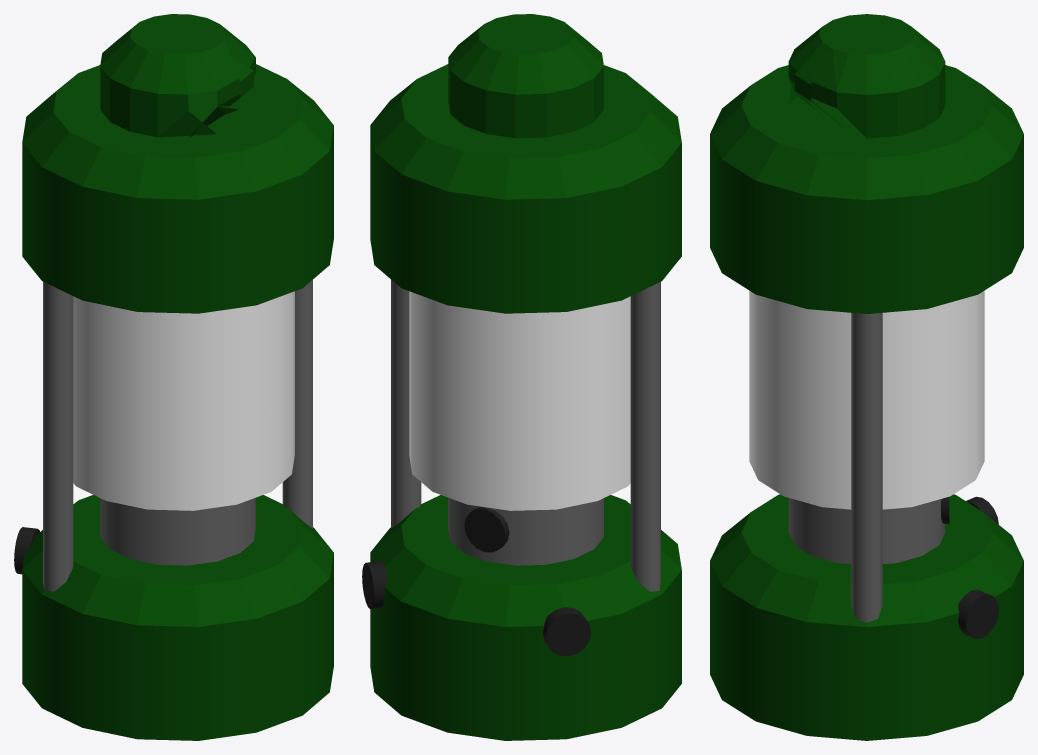
Rendered from lantern_modern.fbx.
The picture shows the model from 3 angles, left to right: view 1: azimuth 30°, elevation 25°; view 2: azimuth 150°, elevation 25°; view 3: azimuth 270°, elevation 25°; orthographic projection.
Parts seen in each view (by area): view 1: lid, base, glass, top, support, burner, support__1_, knob; view 2: lid, base, glass, top, support, burner, support__1_, knob, knob__1_, knob__2_; view 3: lid, base, glass, top, support__1_, burner, knob__2_.
Part boxes in pixels (bbox=[...]): lid: bbox=[22, 64, 333, 313]; base: bbox=[22, 495, 333, 740]; glass: bbox=[73, 291, 294, 510]; top: bbox=[100, 14, 255, 138]; support: bbox=[43, 281, 73, 591]; burner: bbox=[100, 497, 255, 565]; support__1_: bbox=[282, 280, 312, 528]; knob: bbox=[14, 527, 39, 574]; lid: bbox=[370, 64, 681, 313]; base: bbox=[370, 495, 681, 740]; glass: bbox=[409, 291, 630, 510]; top: bbox=[448, 14, 603, 138]; support: bbox=[630, 282, 660, 591]; burner: bbox=[448, 498, 603, 565]; support__1_: bbox=[391, 279, 421, 528]; knob: bbox=[543, 607, 590, 656]; knob__1_: bbox=[464, 507, 509, 552]; knob__2_: bbox=[362, 561, 388, 609]; lid: bbox=[710, 65, 1023, 313]; base: bbox=[710, 494, 1023, 740]; glass: bbox=[749, 290, 984, 509]; top: bbox=[788, 14, 945, 138]; support__1_: bbox=[851, 313, 882, 622]; burner: bbox=[788, 498, 945, 563]; knob__2_: bbox=[958, 589, 998, 638].
Bounding box in the file's own units: 100 × 225 × 100.
